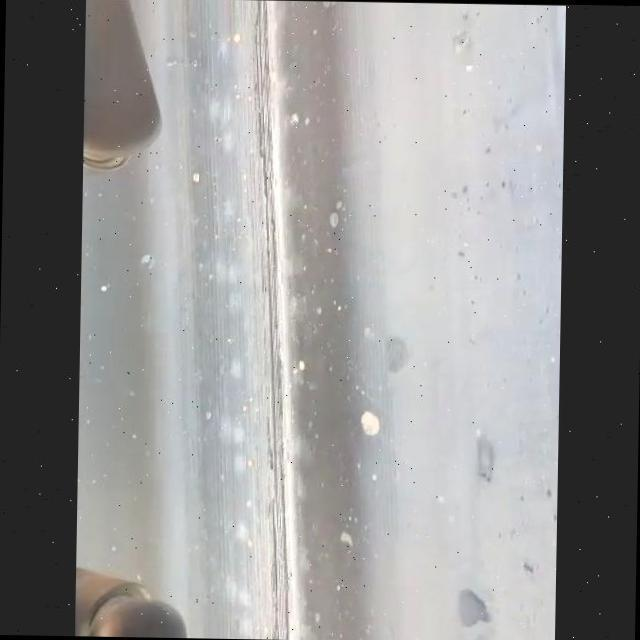Wear: (246, 0, 299, 640)
